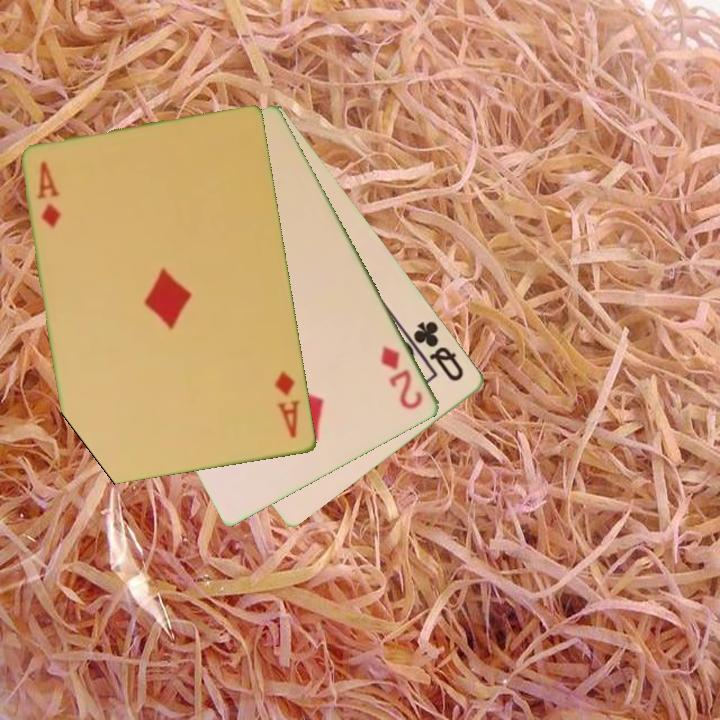2d: (377, 342, 427, 413)
Ad: (271, 368, 304, 442), (34, 158, 65, 232)
Qc: (410, 317, 468, 385)
